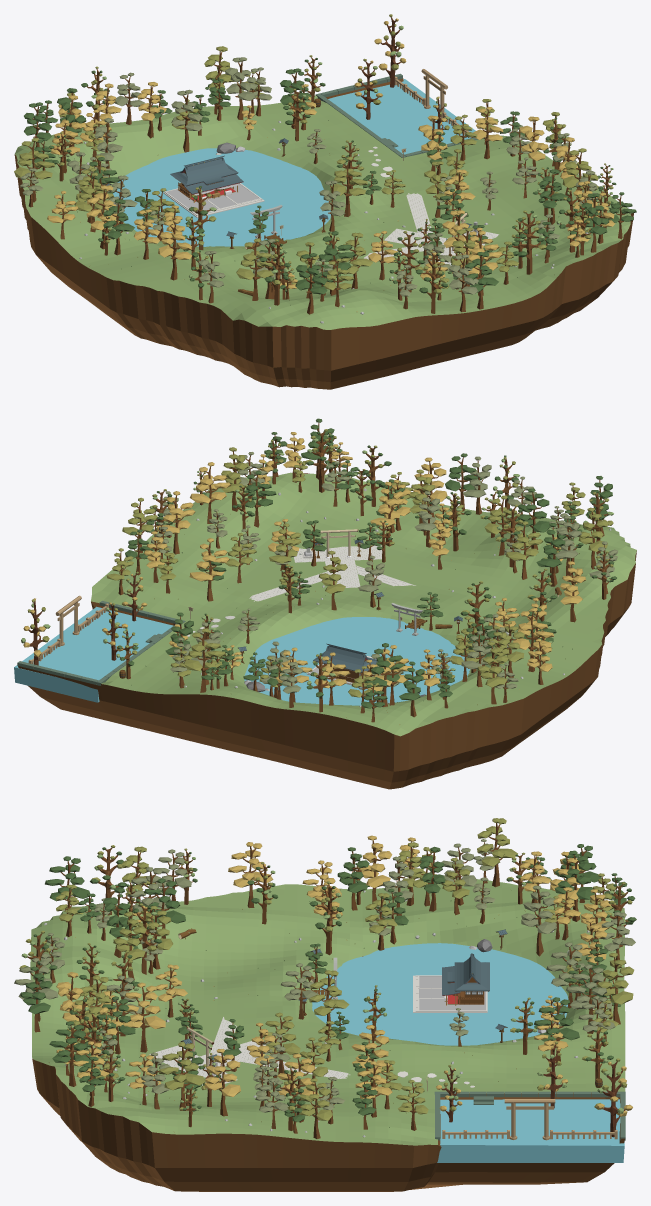
The model's file is 06level_v1.fbx.
3 views of the same model, one above another, from view 1: azimuth 30°, elevation 25°; view 2: azimuth 150°, elevation 25°; view 3: azimuth 270°, elevation 25° (orthographic). The views are drawn at different scales.
Visible parts, largest first — view 1: Plane, Water, Water.001, 06_Kashima_Jingu_Shrine, Plane.001, Brick.001, Tree.014, Tree.102, Tree.109, Tree.049, Tree.095, Tree.052 (+40 smaller); view 2: Plane, Water, Water.001, StoneBrick.001, Brick.001, 06_Kashima_Jingu_Shrine, Tree.005, Tree.090, Tree.035, Tree.070, Tree.106, Tree.086 (+36 smaller); view 3: Plane, Water, Water.001, 06_Kashima_Jingu_Shrine, Brick.001, Plane.001, Tree.054, Tree.081, Tree.090, Tree.028, Tree.109, Tree.005 (+69 smaller).
Boxes of the visible parts, bbox=[...] form: Plane: bbox=[14, 78, 633, 389]; Water: bbox=[113, 148, 330, 246]; Water.001: bbox=[328, 79, 475, 154]; 06_Kashima_Jingu_Shrine: bbox=[170, 155, 243, 202]; Plane.001: bbox=[164, 183, 262, 215]; Brick.001: bbox=[315, 73, 485, 157]; Tree.014: bbox=[236, 238, 276, 300]; Tree.102: bbox=[158, 219, 192, 280]; Tree.109: bbox=[14, 138, 55, 202]; Tree.049: bbox=[330, 156, 367, 216]; Tree.095: bbox=[295, 253, 327, 314]; Tree.052: bbox=[225, 57, 257, 119]; Plane: bbox=[18, 472, 636, 789]; Water: bbox=[244, 617, 470, 705]; Water.001: bbox=[14, 606, 173, 702]; StoneBrick.001: bbox=[294, 545, 382, 587]; Brick.001: bbox=[17, 600, 185, 685]; 06_Kashima_Jingu_Shrine: bbox=[313, 643, 377, 682]; Tree.005: bbox=[183, 628, 226, 692]; Tree.090: bbox=[190, 462, 231, 523]; Tree.035: bbox=[516, 488, 550, 549]; Tree.070: bbox=[189, 538, 229, 601]; Tree.106: bbox=[513, 608, 553, 671]; Tree.086: bbox=[156, 491, 195, 554]; Plane: bbox=[30, 879, 625, 1191]; Water: bbox=[312, 943, 568, 1045]; Water.001: bbox=[437, 1099, 624, 1162]; 06_Kashima_Jingu_Shrine: bbox=[442, 953, 489, 1005]; Brick.001: bbox=[434, 1091, 625, 1140]; Plane.001: bbox=[415, 975, 487, 1011]; Tree.054: bbox=[123, 982, 165, 1052]; Tree.081: bbox=[159, 1042, 205, 1110]; Tree.090: bbox=[204, 1049, 240, 1116]; Tree.028: bbox=[521, 885, 556, 956]; Tree.109: bbox=[477, 818, 517, 887]; Tree.005: bbox=[597, 953, 634, 1024].
Bounding box in the file's own units: 18169 × 5921 × 18596.
